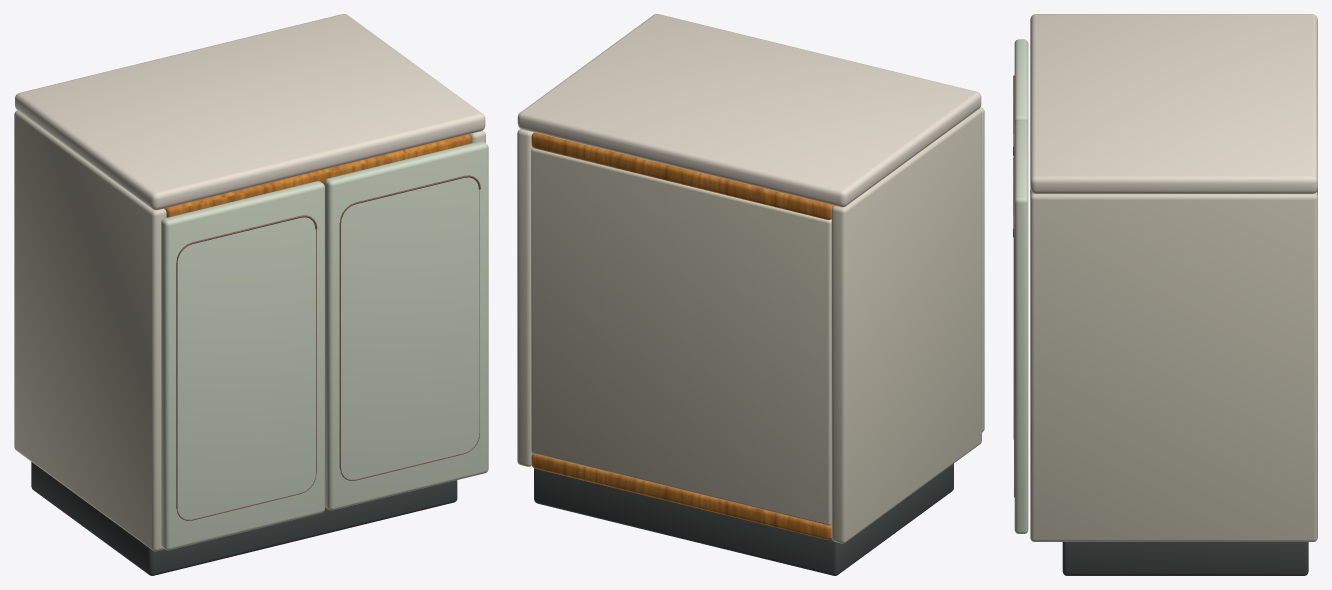
The model's file is push-base-cabinet.glb.
The picture shows the model from 3 angles, left to right: view 1: azimuth 30°, elevation 25°; view 2: azimuth 150°, elevation 25°; view 3: azimuth 270°, elevation 25°; orthographic projection. The views are drawn at different scales.
Parts seen in each view (by area): view 1: push-base-cabinet; view 2: push-base-cabinet; view 3: push-base-cabinet.
Part boxes in pixels (x1,y1,x2,y2): push-base-cabinet: (14,14,488,575); push-base-cabinet: (517,14,984,575); push-base-cabinet: (1013,14,1317,575).
Bounding box in the file's own units: 0.8 × 0.91 × 0.62.
Materials: 6 (1 with a texture image).
